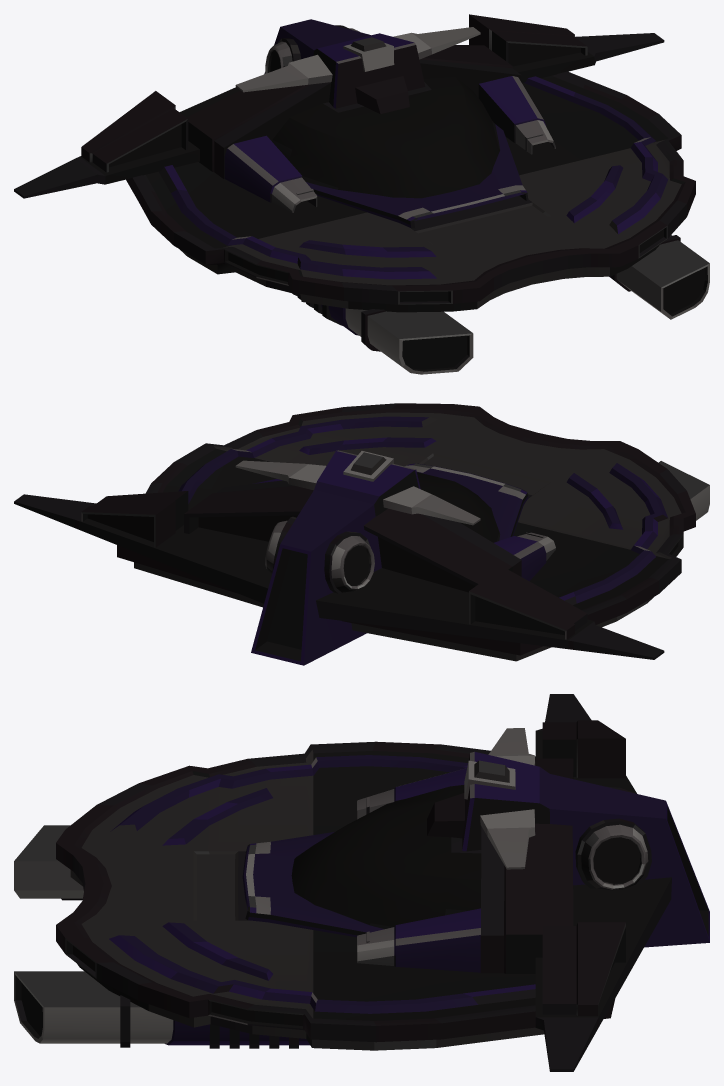
File: pancake.obj
The picture shows the model from 3 angles, top to bottom: view 1: azimuth 30°, elevation 25°; view 2: azimuth 150°, elevation 25°; view 3: azimuth 270°, elevation 25°; orthographic projection. The views are drawn at different scales.
Parts seen in each view (by area): view 1: Pancake_Cube.008; view 2: Pancake_Cube.008; view 3: Pancake_Cube.008.
Part boxes in pixels (bbox=[...]): Pancake_Cube.008: bbox=[14, 14, 709, 374]; Pancake_Cube.008: bbox=[14, 403, 709, 665]; Pancake_Cube.008: bbox=[14, 694, 709, 1071].
Bounding box in the file's own units: 10.5 × 2.6 × 8.23.
